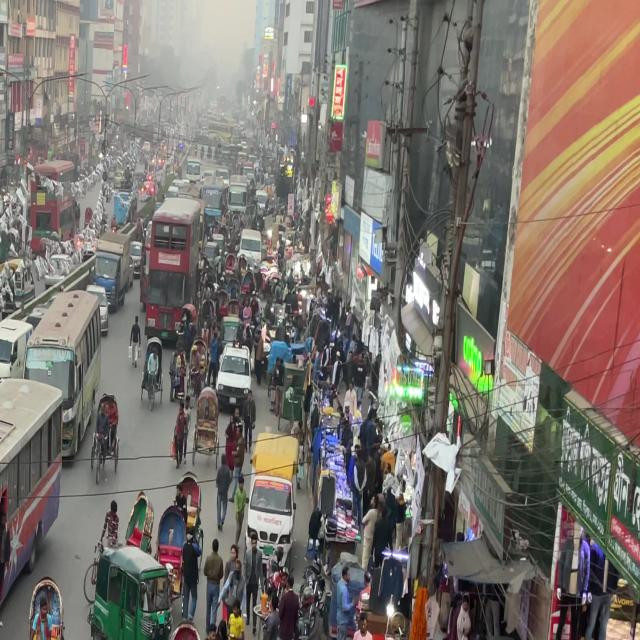bus: (0, 371, 71, 640), (23, 296, 101, 456), (141, 199, 205, 331), (88, 239, 134, 310), (0, 316, 34, 391)
rickshaw: (87, 544, 182, 640)
van: (235, 438, 316, 560)
